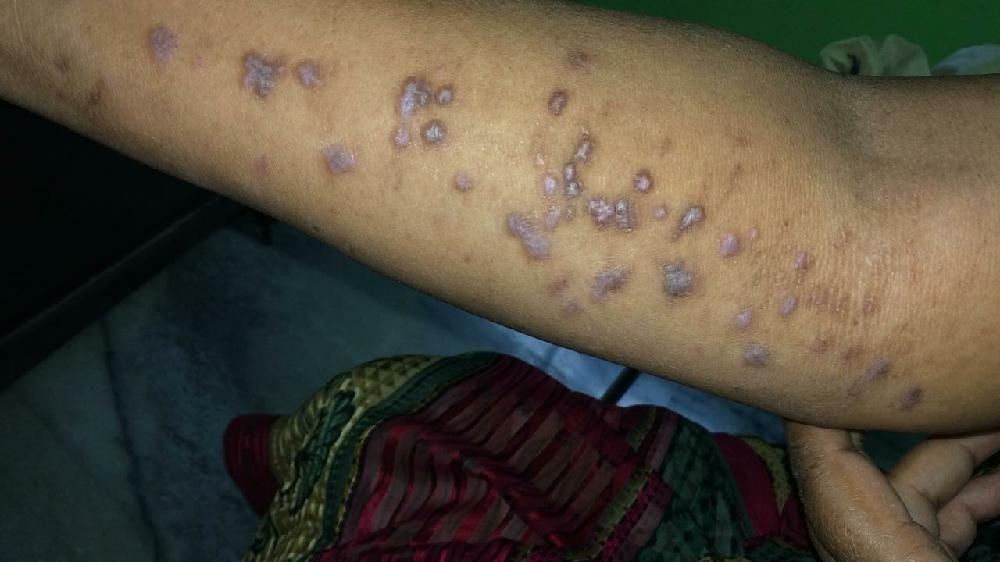hypertrophic lichen planus: (368, 33, 758, 283)
